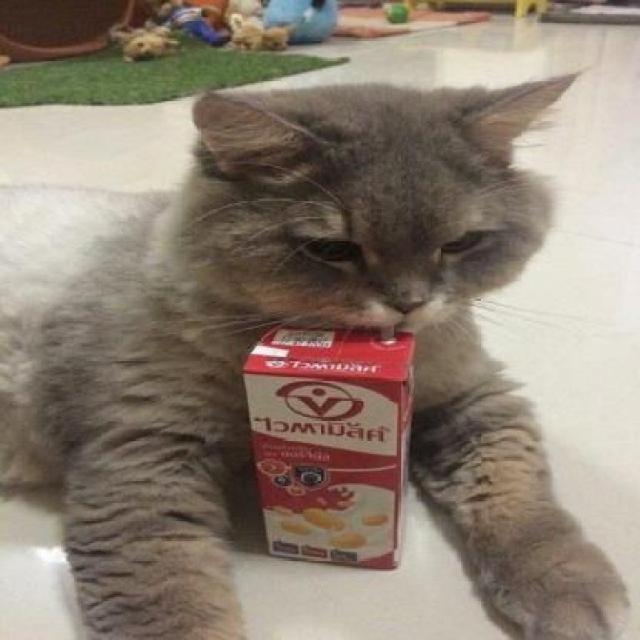cat: (166, 68, 599, 360)
